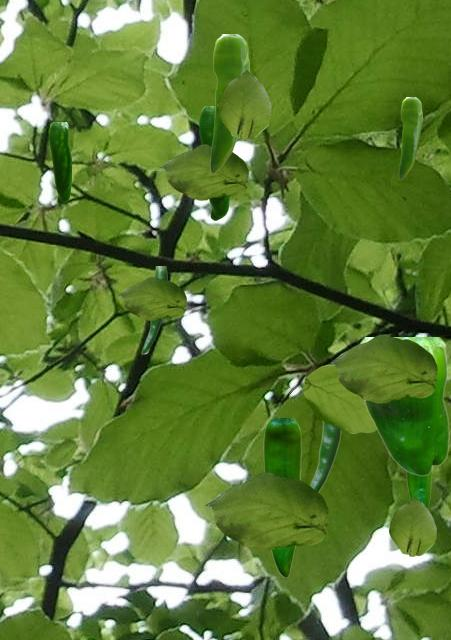green_chili: (359, 337, 448, 475), (263, 418, 300, 576), (210, 34, 248, 172), (199, 106, 229, 219), (141, 266, 166, 353), (310, 421, 341, 491), (399, 97, 421, 178), (49, 122, 70, 203), (406, 472, 432, 507)
